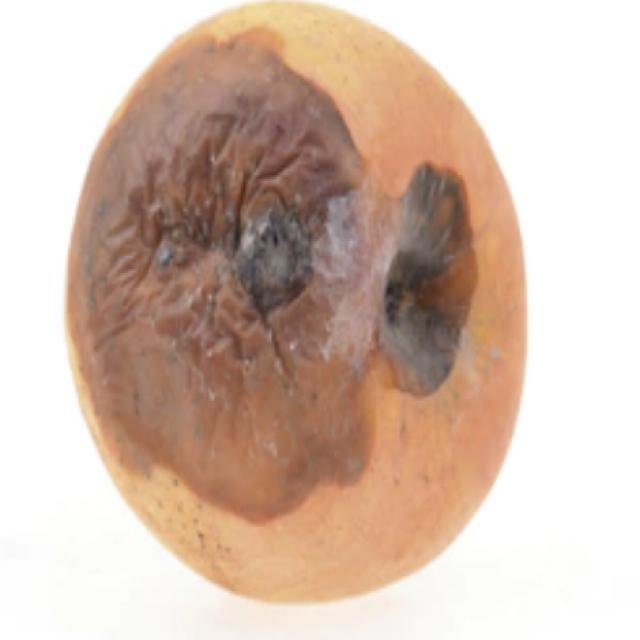Rotten: (51, 10, 556, 610)
